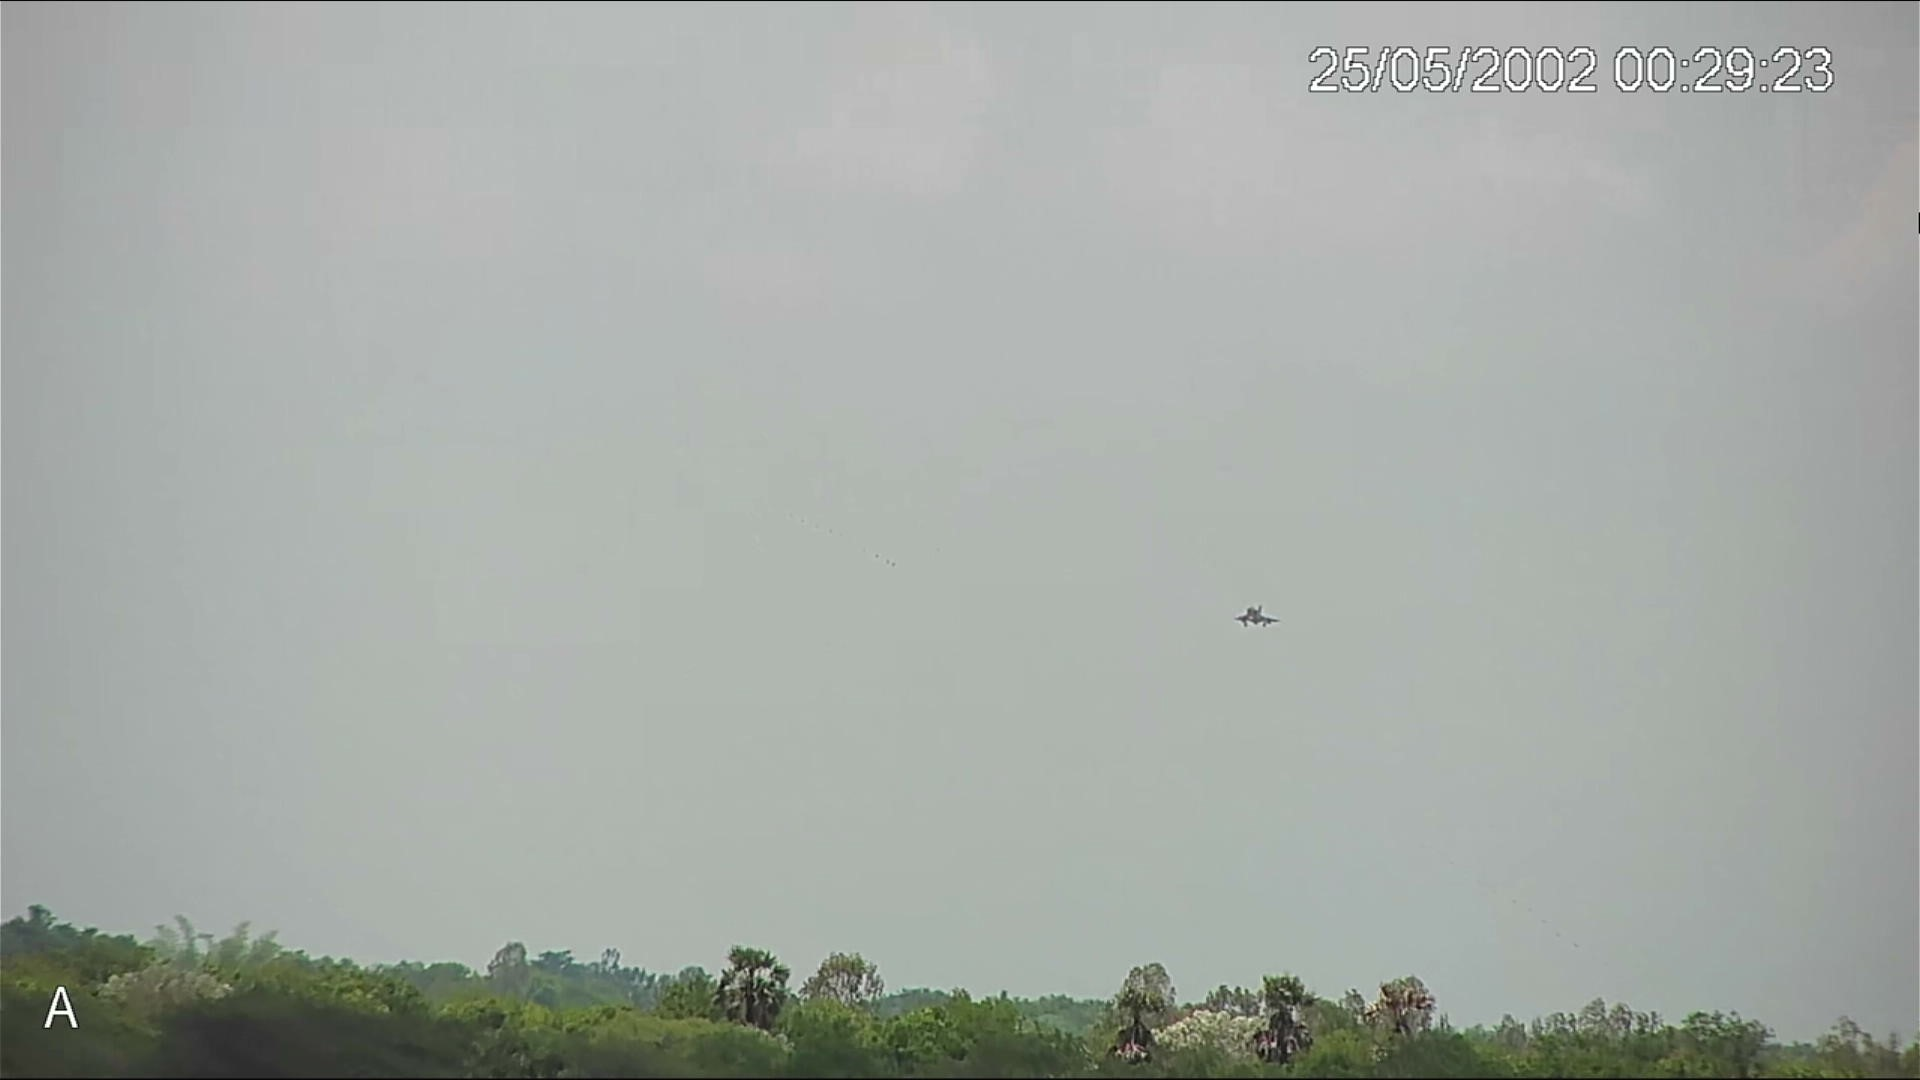SU_30: (1232, 603, 1283, 630)
